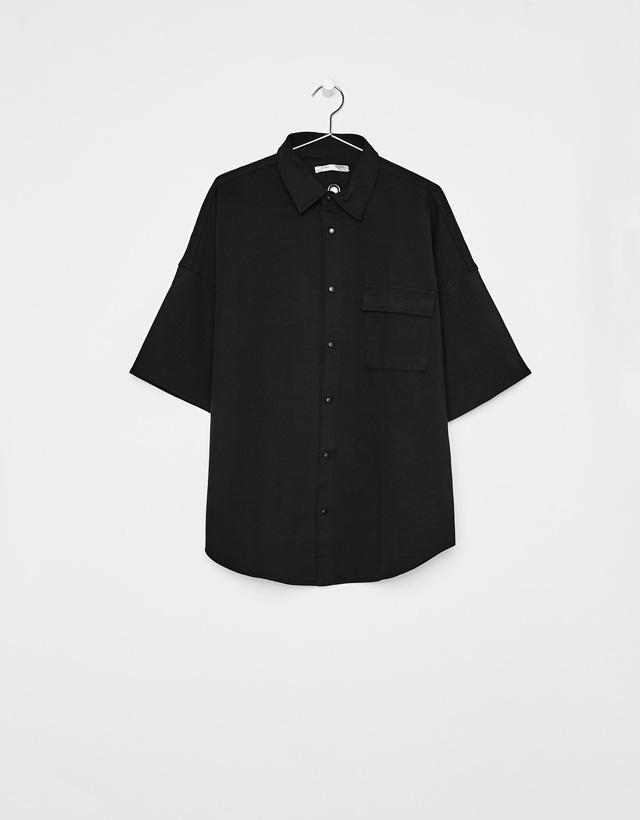teeshirt: (129, 129, 537, 607)
